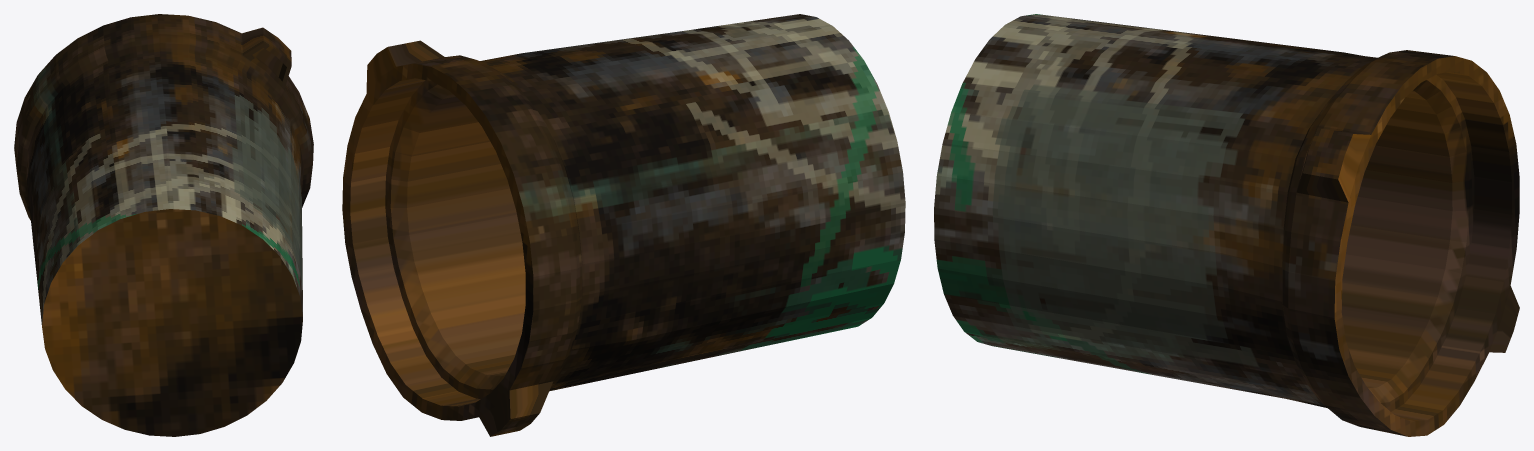
The model's file is SM_trashcan2.fbx.
3 renders of one model, left to right at view 1: azimuth 30°, elevation 25°; view 2: azimuth 150°, elevation 25°; view 3: azimuth 270°, elevation 25°, orthographic. The views are drawn at different scales.
Parts seen in each view (by area): view 1: Sm_trshcan2; view 2: Sm_trshcan2; view 3: Sm_trshcan2.
Boxes of the visible parts, <box> form: Sm_trshcan2: <box>14,14,313,436</box>; Sm_trshcan2: <box>342,14,905,436</box>; Sm_trshcan2: <box>934,14,1519,436</box>.
Bounding box in the file's own units: 85.27 × 61.49 × 92.22.
